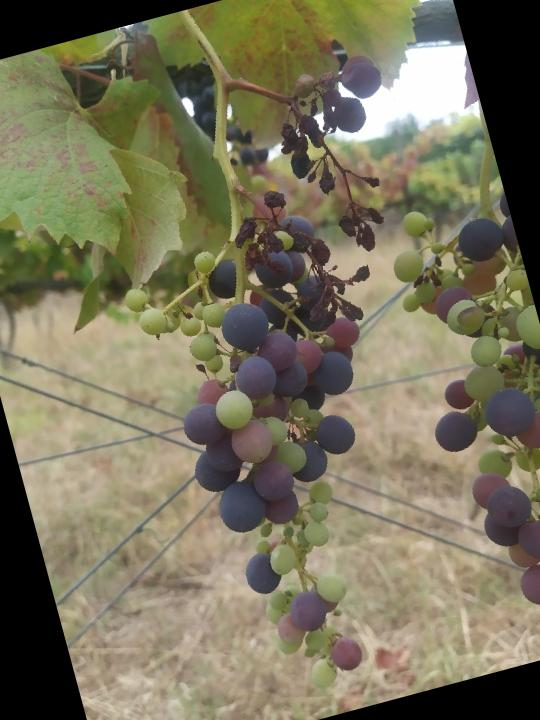grape: (103, 172, 472, 716), (254, 48, 424, 272)
